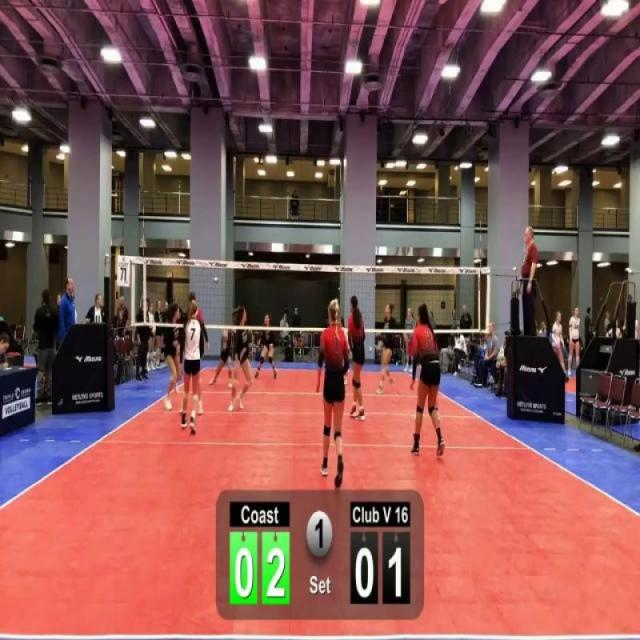volleyball: (222, 330, 228, 342)
